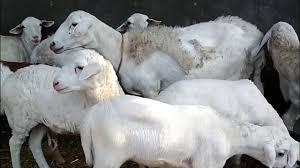Sheep: (42, 43, 132, 95), (232, 107, 294, 168), (50, 4, 109, 56), (6, 15, 53, 48)
